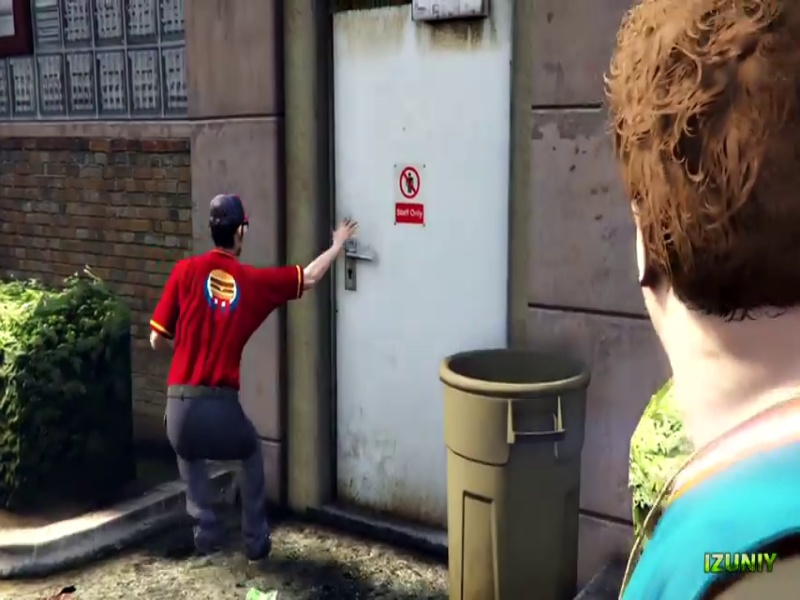licenseplate: (349, 145, 551, 194)
